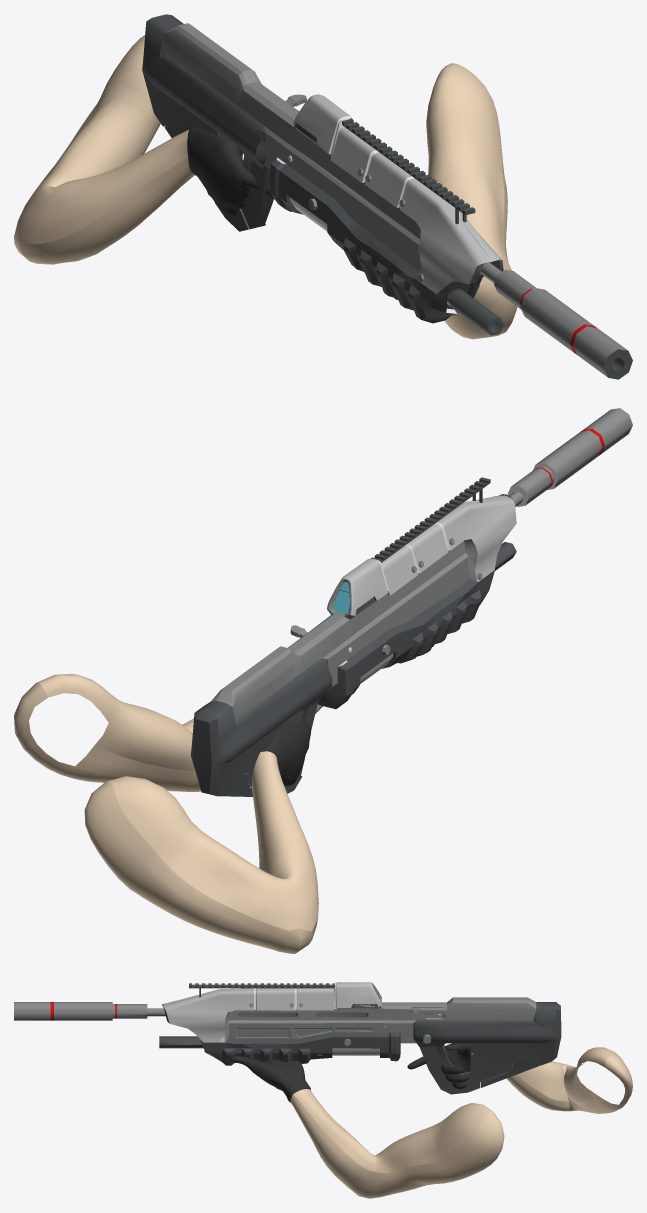
The picture shows the model from 3 angles, top to bottom: view 1: azimuth 30°, elevation 25°; view 2: azimuth 150°, elevation 25°; view 3: azimuth 270°, elevation 25°; orthographic projection. The views are drawn at different scales.
Visible parts, largest first — view 1: g_polySurface2_polySurface24.011_meshId4_name.011, SketchUp, SketchUp.031, SketchUp.005, SketchUp.012, g_polySurface2_polySurface24_meshId4_name, SketchUp.056, instance_2, SketchUp.011, SketchUp.016, SketchUp.015, SketchUp.054 (+3 smaller); view 2: g_polySurface2_polySurface24.011_meshId4_name.011, SketchUp, SketchUp.031, SketchUp.005, SketchUp.012, g_polySurface2_polySurface24_meshId4_name, SketchUp.056, SketchUp.011, instance_2, SketchUp.016, SketchUp.054, SketchUp.015; view 3: g_polySurface2_polySurface24.011_meshId4_name.011, SketchUp, SketchUp.031, SketchUp.005, SketchUp.012, g_polySurface2_polySurface24_meshId4_name, SketchUp.056, SketchUp.011, SketchUp.016, SketchUp.015, instance_2, SketchUp.054 (+4 smaller).
Boxes of the visible parts, bbox=[...] form: g_polySurface2_polySurface24.011_meshId4_name.011: bbox=[14, 35, 517, 339]; SketchUp: bbox=[163, 23, 421, 273]; SketchUp.031: bbox=[142, 14, 273, 231]; SketchUp.005: bbox=[270, 157, 503, 323]; SketchUp.012: bbox=[399, 178, 501, 293]; g_polySurface2_polySurface24_meshId4_name: bbox=[187, 127, 398, 299]; SketchUp.056: bbox=[520, 288, 593, 352]; instance_2: bbox=[341, 118, 475, 224]; SketchUp.011: bbox=[293, 94, 350, 153]; SketchUp.016: bbox=[364, 152, 411, 207]; SketchUp.015: bbox=[331, 127, 375, 182]; SketchUp.054: bbox=[572, 326, 627, 377]; g_polySurface2_polySurface24.011_meshId4_name.011: bbox=[14, 674, 322, 953]; SketchUp: bbox=[211, 539, 477, 721]; SketchUp.031: bbox=[190, 658, 332, 796]; SketchUp.005: bbox=[318, 494, 512, 709]; SketchUp.012: bbox=[437, 495, 516, 581]; g_polySurface2_polySurface24_meshId4_name: bbox=[260, 644, 434, 786]; SketchUp.056: bbox=[536, 430, 602, 488]; SketchUp.011: bbox=[327, 558, 388, 615]; instance_2: bbox=[371, 477, 490, 562]; SketchUp.016: bbox=[407, 524, 448, 572]; SketchUp.054: bbox=[583, 408, 632, 453]; SketchUp.015: bbox=[381, 545, 417, 595]; g_polySurface2_polySurface24.011_meshId4_name.011: bbox=[290, 1047, 632, 1198]; SketchUp: bbox=[225, 983, 536, 1043]; SketchUp.031: bbox=[413, 1002, 561, 1094]; SketchUp.005: bbox=[162, 1004, 400, 1065]; SketchUp.012: bbox=[163, 988, 253, 1042]; g_polySurface2_polySurface24_meshId4_name: bbox=[231, 1043, 470, 1102]; SketchUp.056: bbox=[54, 1002, 112, 1020]; SketchUp.011: bbox=[337, 982, 381, 1007]; SketchUp.016: bbox=[257, 988, 294, 1010]; SketchUp.015: bbox=[297, 988, 333, 1010]; instance_2: bbox=[189, 983, 335, 997]; SketchUp.054: bbox=[14, 1002, 50, 1020].
Bounding box in the file's own units: 0.1045 × 0.07 × 0.2394.
